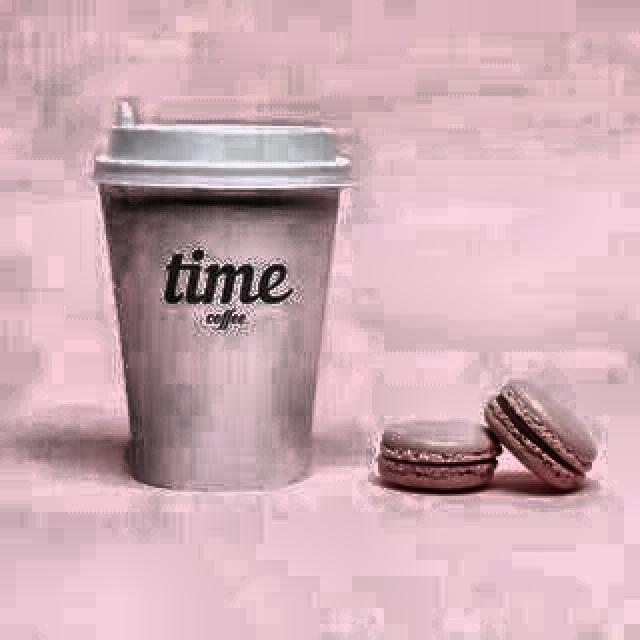Cup: (97, 148, 347, 526)
